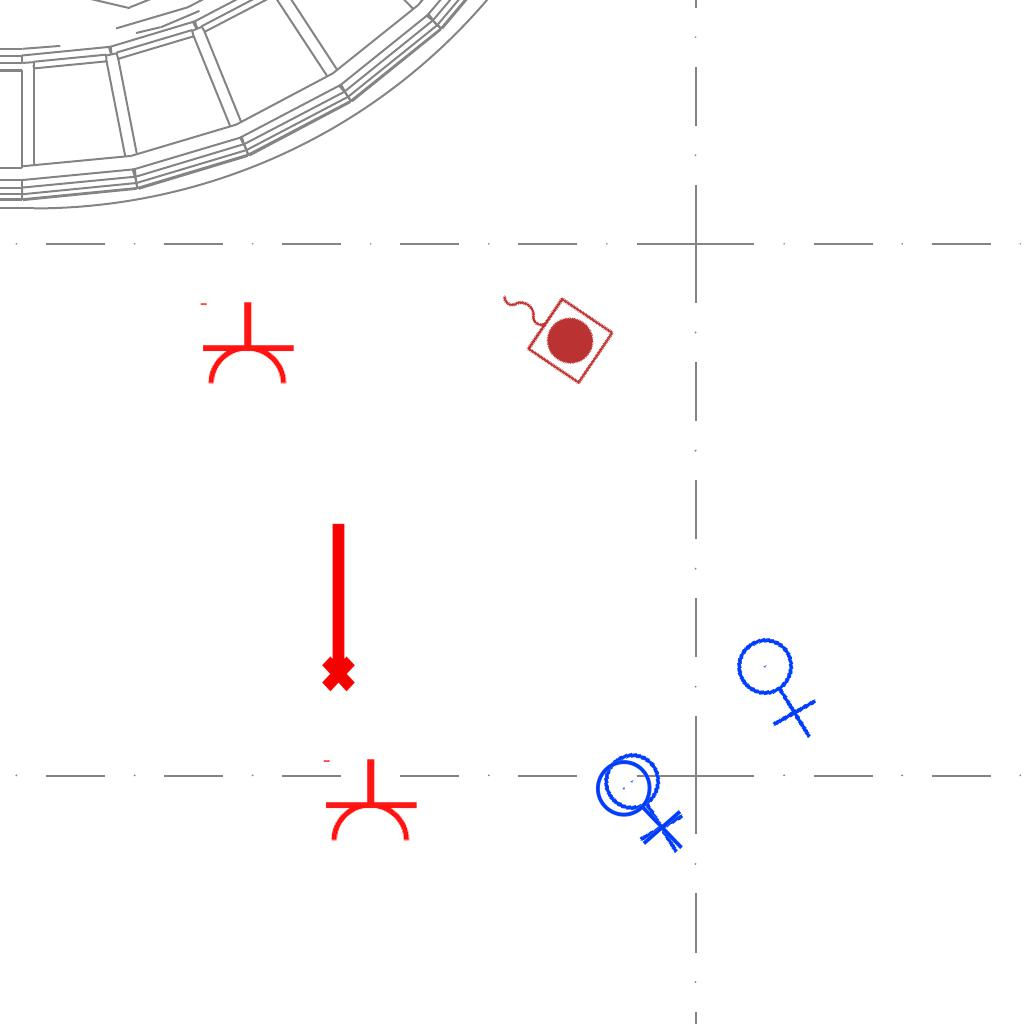ASR_Ansaugoeffnung: (313, 518, 359, 694)
Elektroanschluss_allgemein_230V_Geraeteanschlussdose_230V: (723, 623, 836, 741), (590, 738, 703, 856), (594, 751, 688, 850)
Schukosteckdose_einfach: (319, 757, 419, 844), (196, 300, 296, 387)
Zugtaster: (479, 262, 621, 390)
